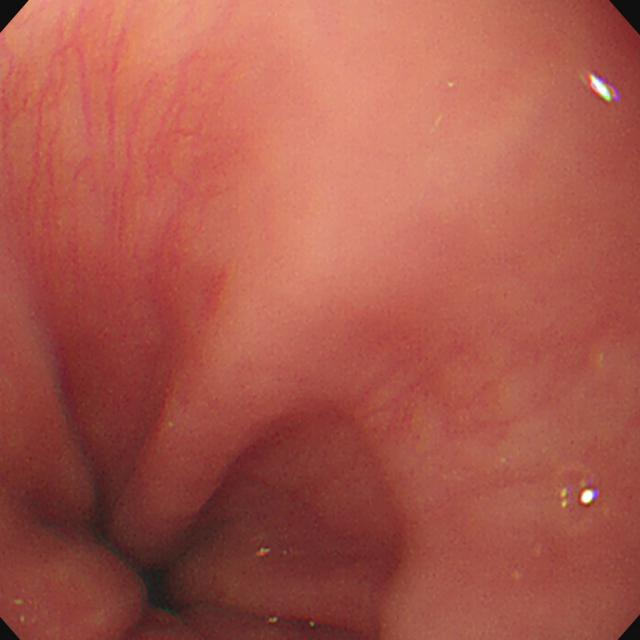E: (144, 570, 175, 612)
I: (5, 353, 335, 640)
U: (588, 73, 620, 105), (579, 488, 598, 507)
